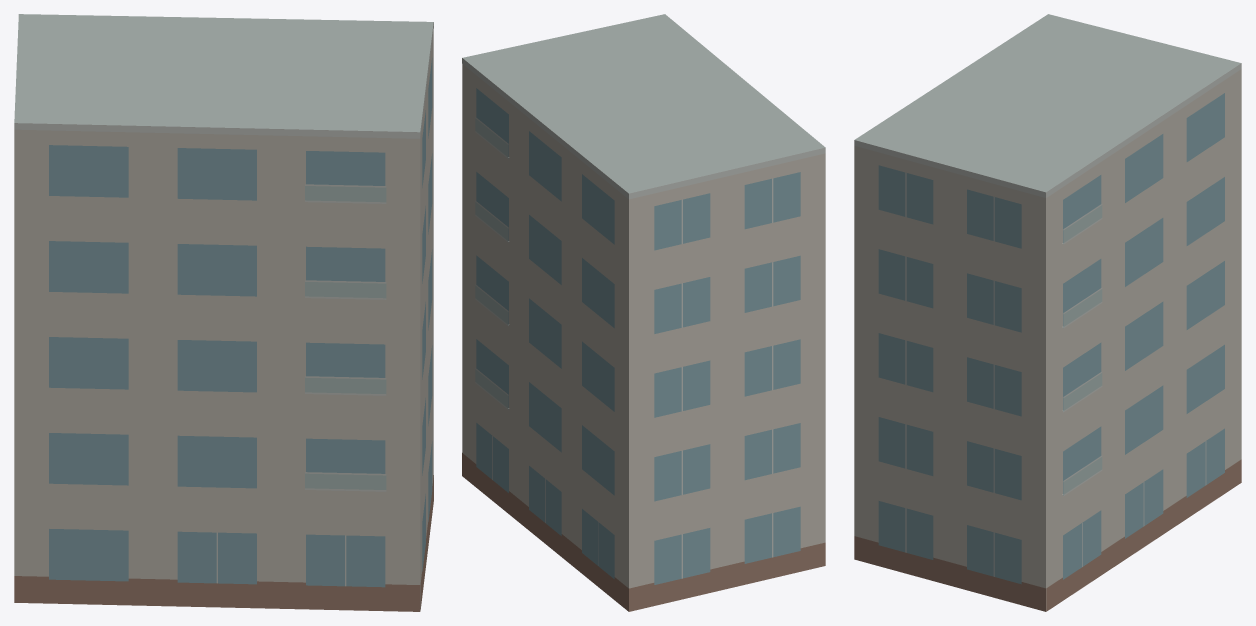
Rendered from survey-upis-32880184.glb.
3 renders of one model, left to right at view 1: azimuth 30°, elevation 25°; view 2: azimuth 150°, elevation 25°; view 3: azimuth 270°, elevation 25°, orthographic. The views are drawn at different scales.
Parts seen in each view (by area): view 1: survey-upis-32880184.tmp; view 2: survey-upis-32880184.tmp; view 3: survey-upis-32880184.tmp.
Boxes of the visible parts, <box> form: survey-upis-32880184.tmp: <box>14,14,433,611</box>; survey-upis-32880184.tmp: <box>462,14,825,611</box>; survey-upis-32880184.tmp: <box>854,14,1241,611</box>.
Size of the model in its own units: 16.16 by 17.7 by 14.82.
